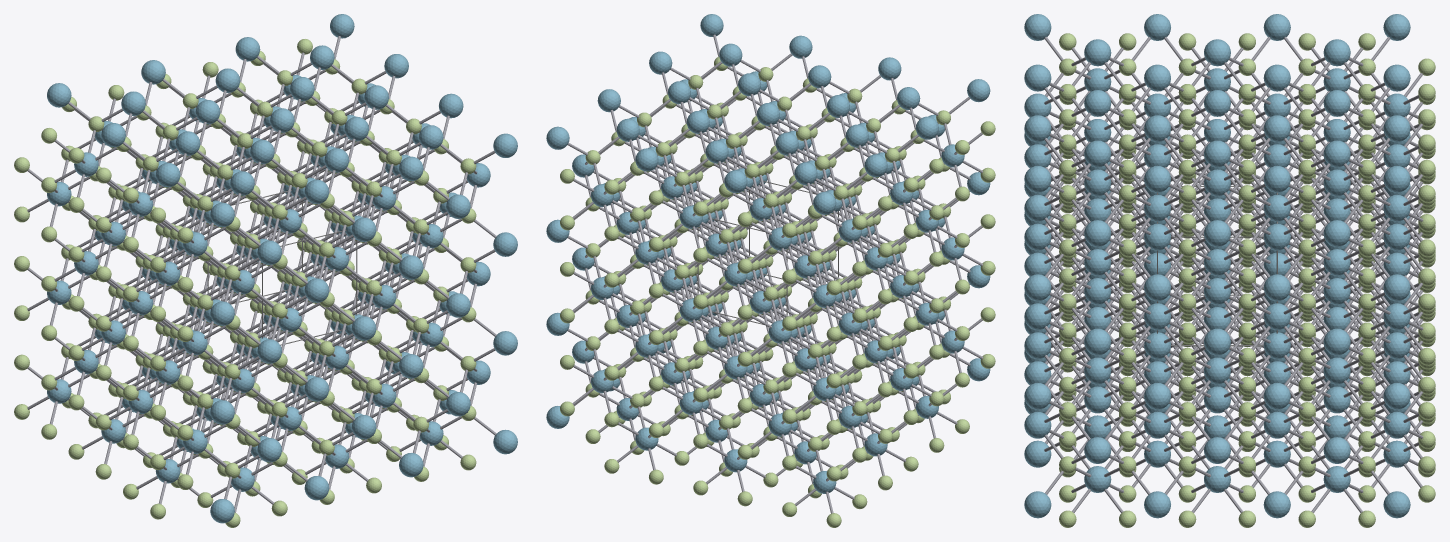
File: CaF2_fluorite_AR.glb
The picture shows the model from 3 angles, left to right: view 1: azimuth 30°, elevation 25°; view 2: azimuth 150°, elevation 25°; view 3: azimuth 270°, elevation 25°; orthographic projection. The views are drawn at different scales.
Visible parts, largest first — view 1: Ca_atoms, coordination_bonds, F_atoms, unit_cell_outline; view 2: coordination_bonds, Ca_atoms, F_atoms; view 3: Ca_atoms, coordination_bonds, F_atoms.
Part boxes in pixels (x1,y1,x2,y2): Ca_atoms: (47,14,517,523); coordination_bonds: (27,36,496,512); F_atoms: (14,39,476,527); unit_cell_outline: (207,190,357,345); coordination_bonds: (567,34,983,513); Ca_atoms: (546,14,990,493); F_atoms: (560,56,995,527); Ca_atoms: (1024,14,1410,518); coordination_bonds: (1044,36,1423,513); F_atoms: (1059,33,1435,527).
Size of the model in its own units: 18.77 by 18.77 by 18.77.
